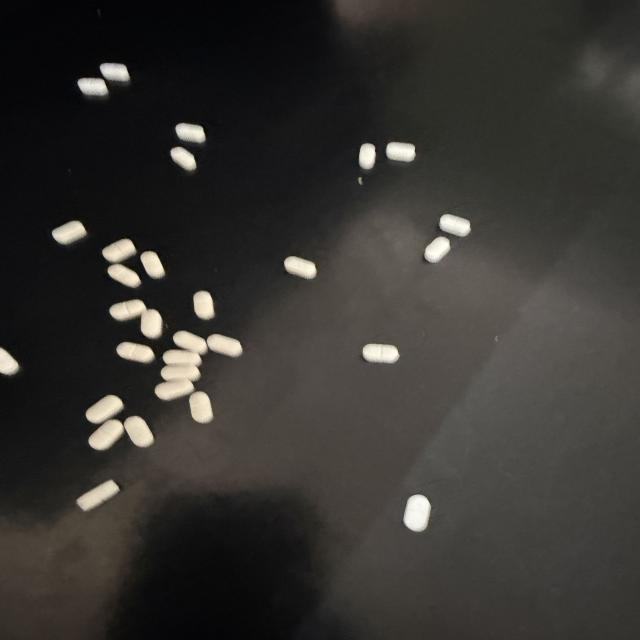pill: (77, 480, 119, 511), (403, 494, 431, 532), (89, 420, 124, 450), (86, 395, 123, 423), (124, 416, 154, 447), (174, 331, 208, 355), (207, 334, 242, 357), (155, 379, 193, 400), (116, 342, 154, 363), (110, 299, 146, 321), (52, 221, 86, 244), (103, 239, 136, 262), (108, 264, 140, 287), (190, 392, 213, 423), (284, 257, 316, 279), (363, 344, 399, 363), (141, 251, 165, 279), (440, 214, 470, 236), (425, 237, 450, 263), (161, 365, 200, 381), (141, 310, 162, 339), (163, 350, 201, 366), (171, 147, 196, 170), (100, 63, 130, 82), (194, 291, 214, 319), (176, 123, 205, 142), (386, 142, 415, 161), (78, 78, 108, 96), (0, 348, 19, 375), (359, 143, 375, 169)
